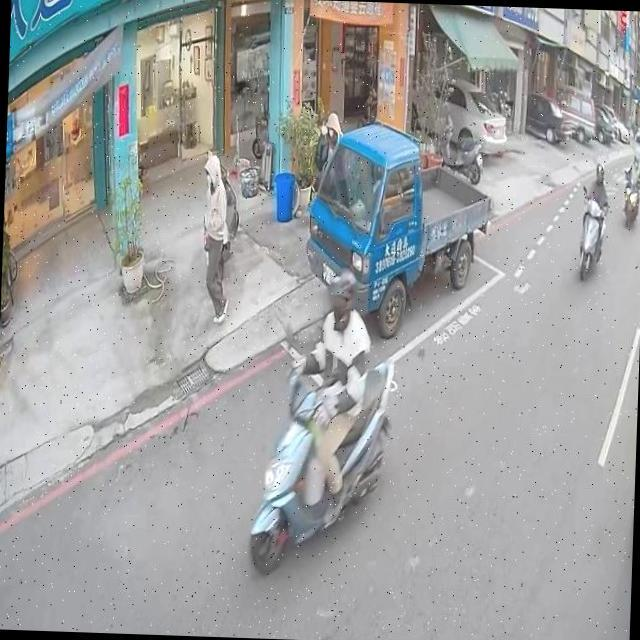person: (277, 267, 376, 532), (195, 147, 238, 324), (576, 164, 608, 262), (306, 116, 334, 200), (323, 108, 344, 164), (623, 152, 640, 193)
